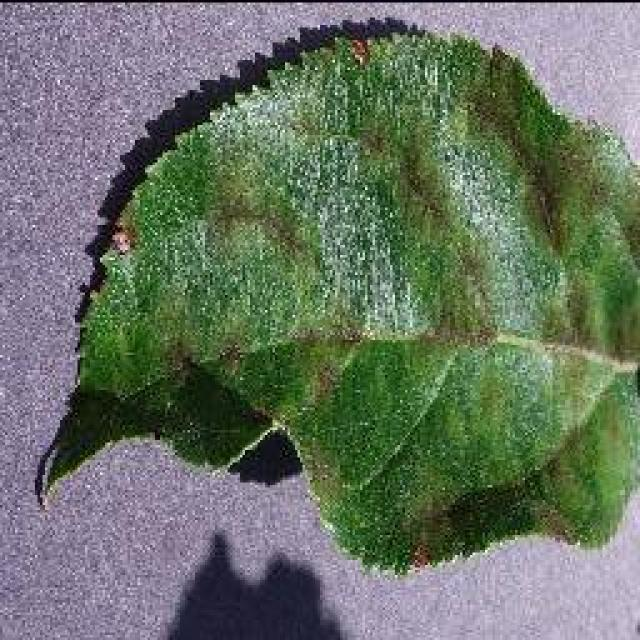apple scab disease: (32, 20, 638, 575)
